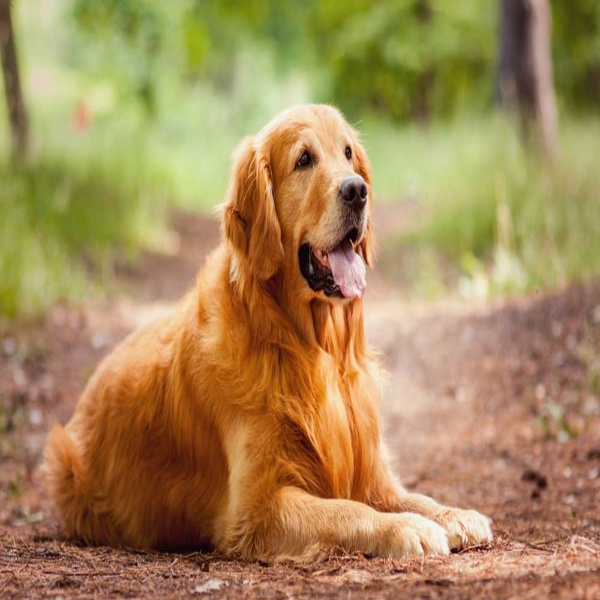dog: (45, 94, 498, 562)
